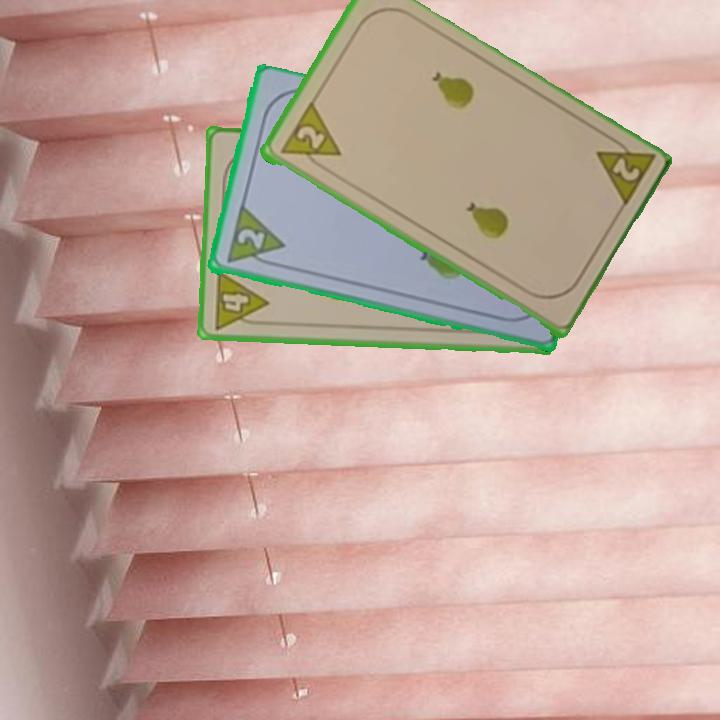2p: (591, 130, 657, 212), (276, 100, 343, 174), (222, 203, 287, 271)
4p: (210, 267, 271, 332)
